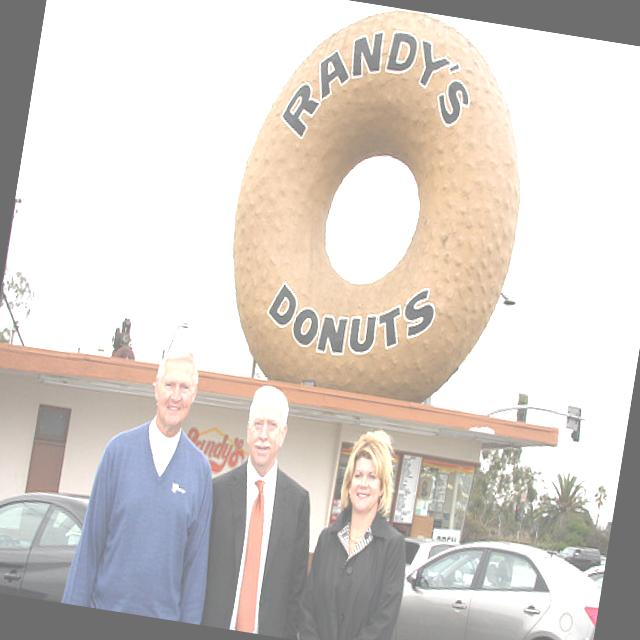Vehicle: (392, 520, 607, 640), (0, 479, 92, 605), (569, 559, 605, 640), (558, 542, 603, 573)
